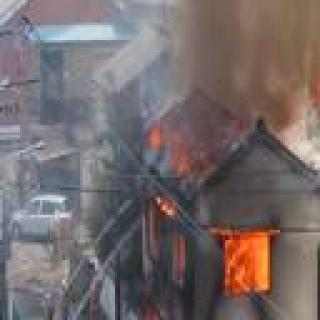fire: (130, 109, 297, 320), (315, 11, 320, 122)
